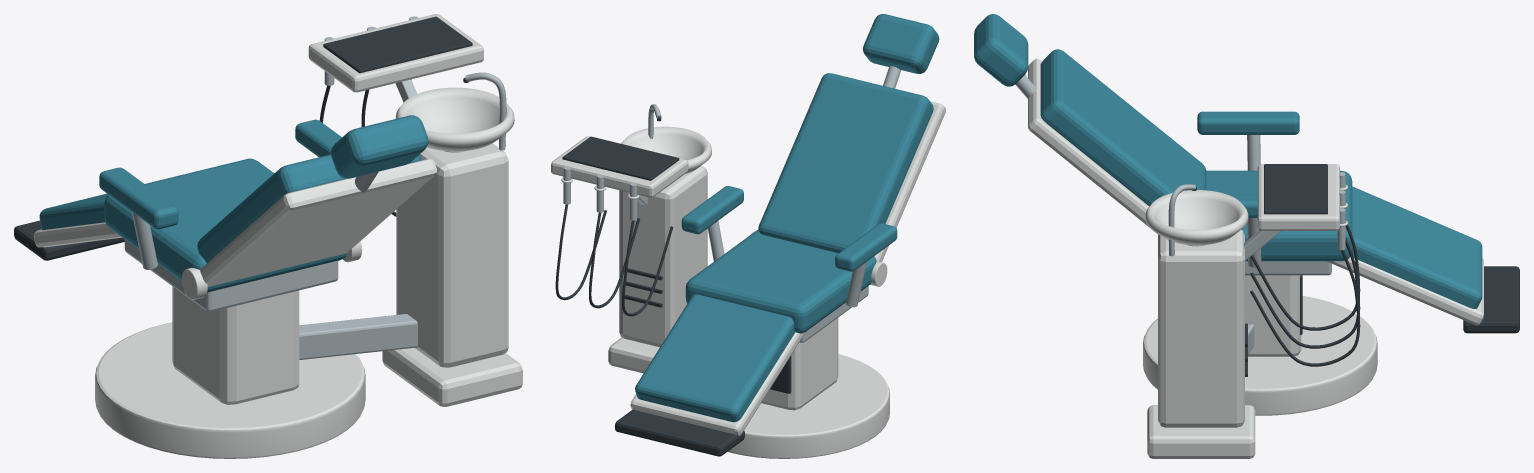
Rendered from city-dental-treatment-chair.glb.
3 renders of one model, left to right at view 1: azimuth 30°, elevation 25°; view 2: azimuth 150°, elevation 25°; view 3: azimuth 270°, elevation 25°, orthographic. The views are drawn at different scales.
Visible parts, largest first — view 1: Assembly | Warm clinical shell, Assembly | Muted blue upholstery, Assembly | Brushed support metal, Assembly | Dark service trim; view 2: Assembly | Muted blue upholstery, Assembly | Warm clinical shell, Assembly | Dark service trim, Assembly | Brushed support metal; view 3: Assembly | Warm clinical shell, Assembly | Muted blue upholstery, Assembly | Dark service trim, Assembly | Brushed support metal.
Part boxes in pixels (<box>): Assembly | Warm clinical shell: <box>33,14,522,458</box>; Assembly | Muted blue upholstery: <box>39,115,428,292</box>; Assembly | Brushed support metal: <box>124,16,506,359</box>; Assembly | Dark service trim: <box>14,16,472,260</box>; Assembly | Muted blue upholstery: <box>635,14,939,422</box>; Assembly | Warm clinical shell: <box>551,101,945,458</box>; Assembly | Dark service trim: <box>555,117,791,456</box>; Assembly | Brushed support metal: <box>563,66,900,342</box>; Assembly | Warm clinical shell: <box>1028,58,1483,458</box>; Assembly | Muted blue upholstery: <box>974,14,1482,308</box>; Assembly | Dark service trim: <box>1192,164,1519,376</box>; Assembly | Brushed support metal: <box>1015,75,1345,354</box>.
Size of the model in its own units: 1.34 by 1.36 by 1.97.
